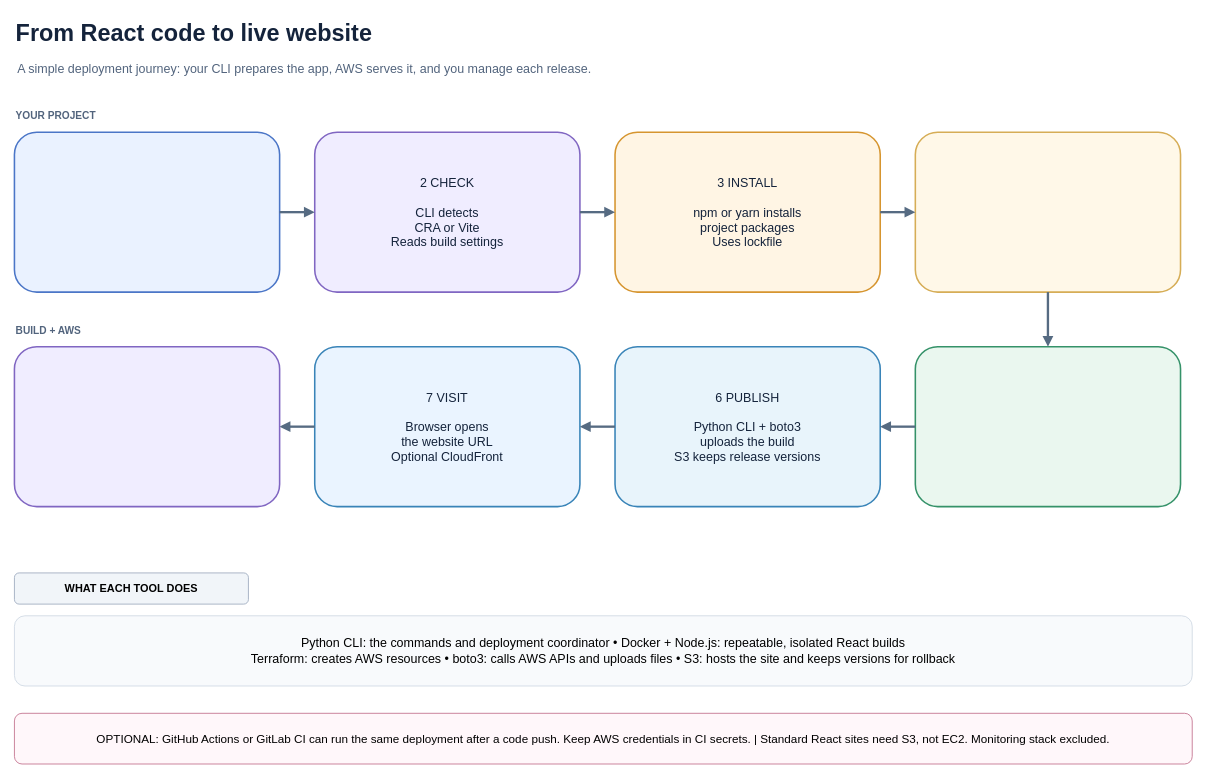
This 1206x778 diagram has some shape labels left out. Here are the shapes that lost their labels. From the top down, the centre of each, then its label:
At (x=146, y=211): "1 START Developer runs deploy-tool deploy From the React project".
At (x=1047, y=211): "4 BUILD Docker runs production build Reuses build cache".
At (x=146, y=426): "8 MANAGE CLI shows status or rolls back Restore previous release".
At (x=1047, y=426): "5 PROVISION Terraform prepares an S3 bucket Sets hosting + versioning".
